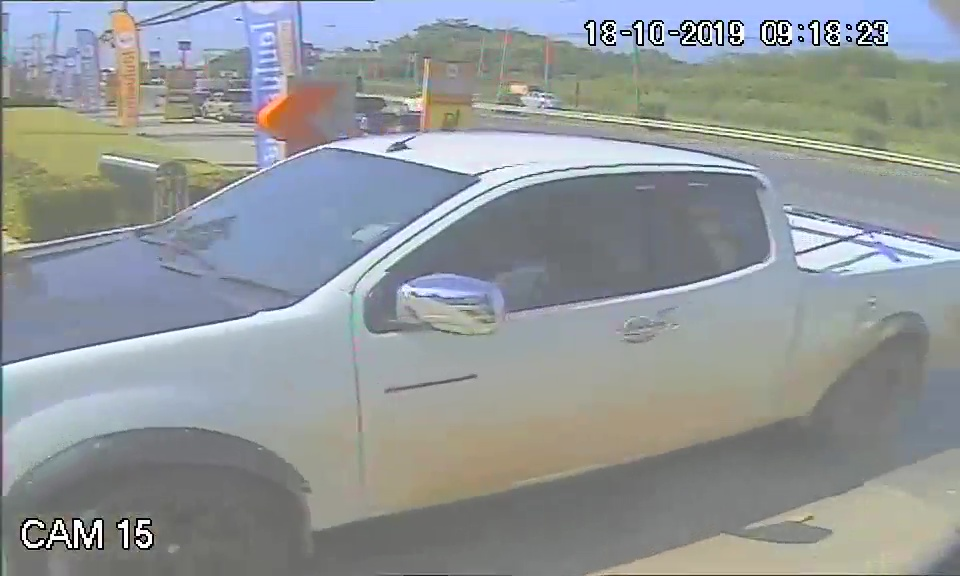pickup: (1, 131, 958, 500)
